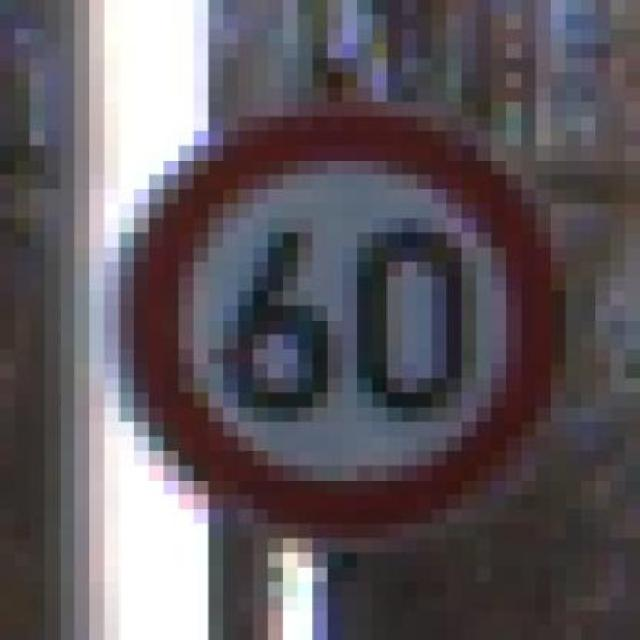forb_speed_over_60: (123, 110, 560, 539)
